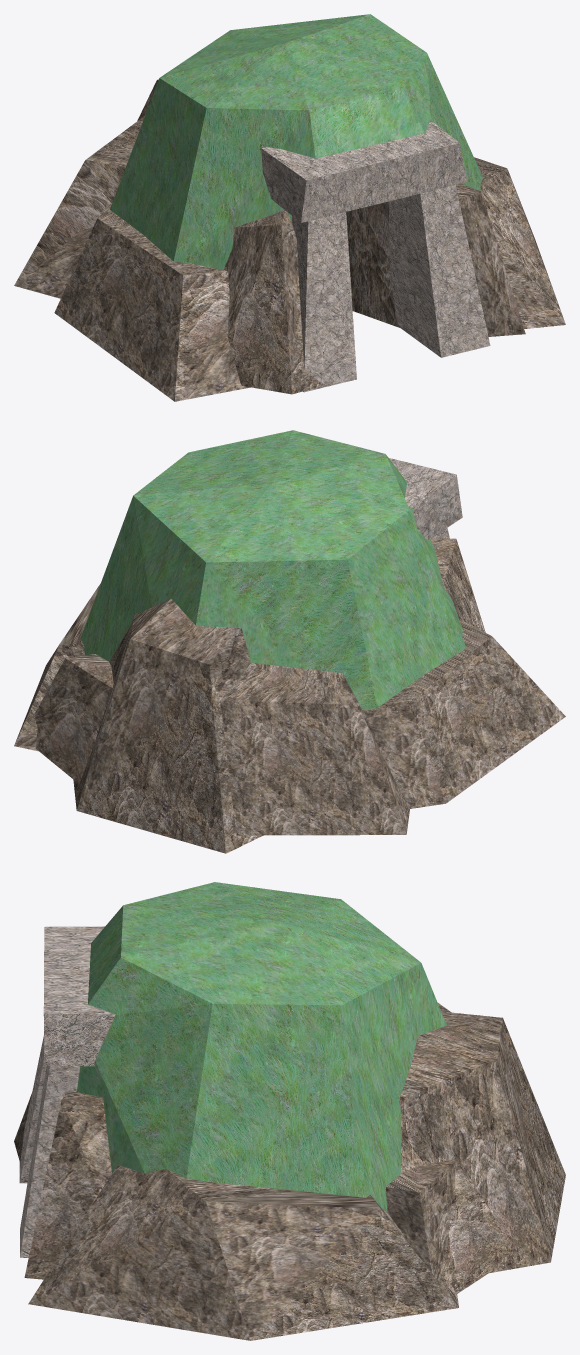
Rendered from thm_dath_mtn_clan_hut_s01_l3.fbx.
3 renders of one model, top to bottom at view 1: azimuth 30°, elevation 25°; view 2: azimuth 150°, elevation 25°; view 3: azimuth 270°, elevation 25°, orthographic. The views are drawn at different scales.
Parts seen in each view (by area): view 1: mesh_node; view 2: mesh_node; view 3: mesh_node.
Part boxes in pixels (x1,y1,x2,y2): mesh_node: (14,14,565,401); mesh_node: (14,430,565,853); mesh_node: (14,882,565,1340).
Bounding box in the file's own units: 12.47 × 6.95 × 11.67.
